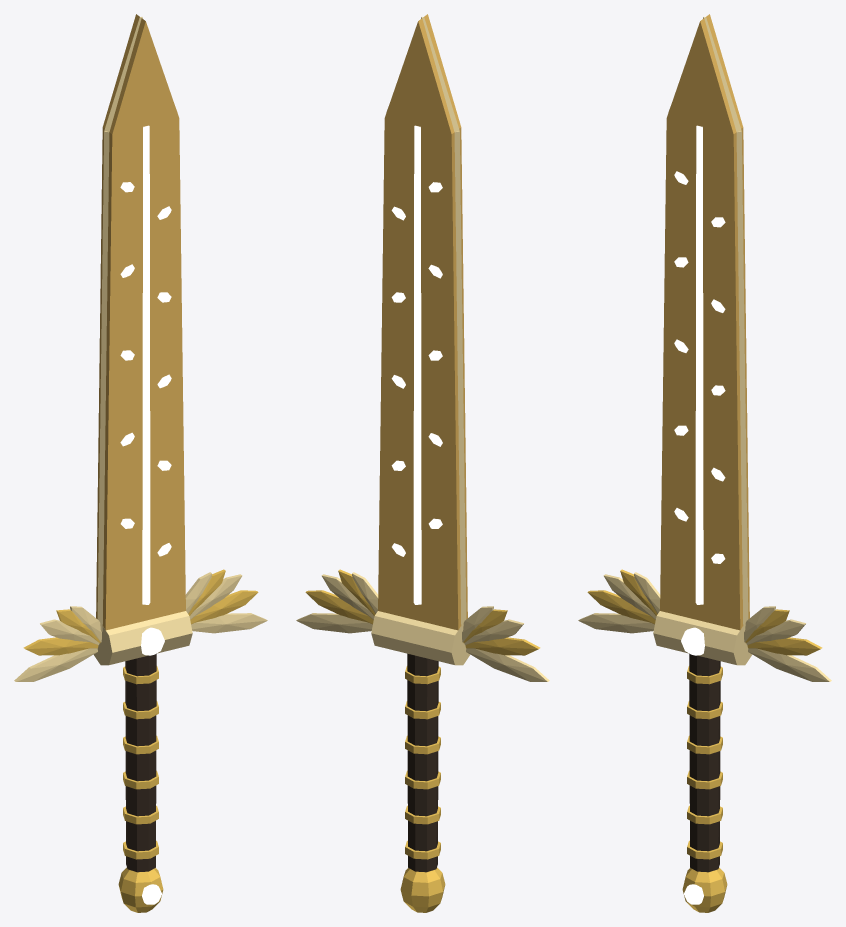
File: first_guardian_blade.glb
3 views of the same model, side by side, from view 1: azimuth 30°, elevation 25°; view 2: azimuth 150°, elevation 25°; view 3: azimuth 330°, elevation 25° (orthographic).
Parts seen in each view (by area): view 1: first_guardian_blade; view 2: first_guardian_blade; view 3: first_guardian_blade.
Part boxes in pixels (x1=…): first_guardian_blade: x1=14, y1=14, x2=267, y2=912; first_guardian_blade: x1=296, y1=14, x2=549, y2=912; first_guardian_blade: x1=578, y1=14, x2=831, y2=912.
Size of the model in its own units: 0.7522 by 2.55 by 0.14.
